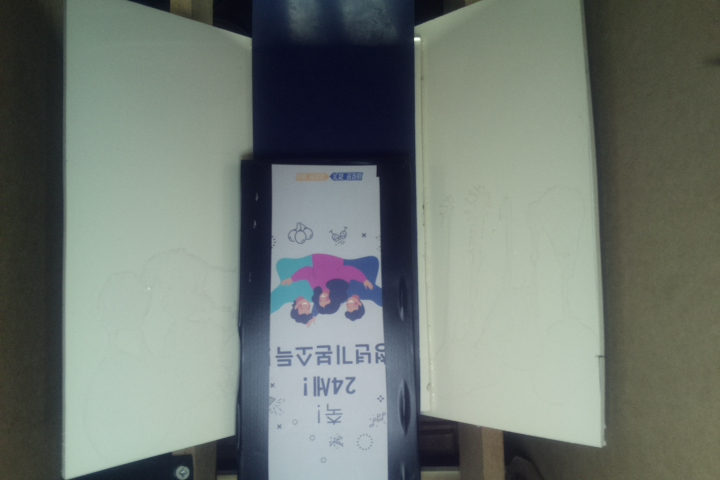book: (239, 160, 420, 480)
